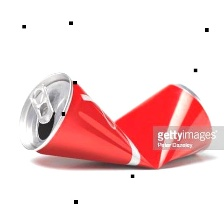can: (15, 69, 217, 173)
